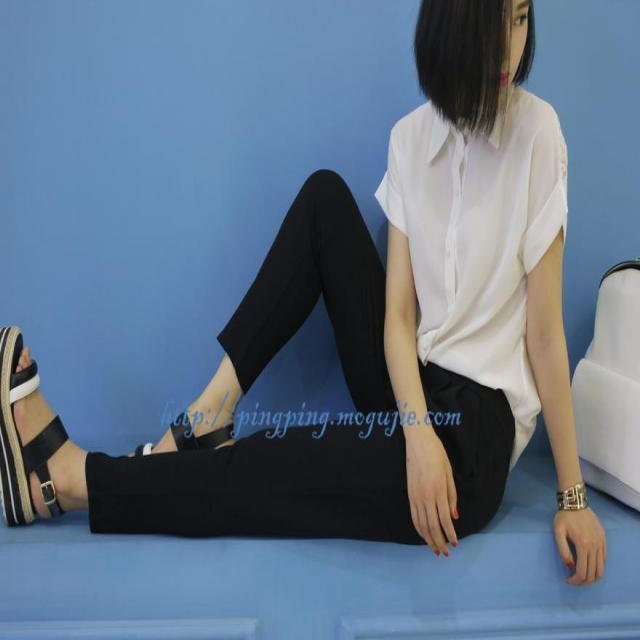short sleeve top: (375, 80, 569, 474)
trousers: (85, 170, 516, 547)
